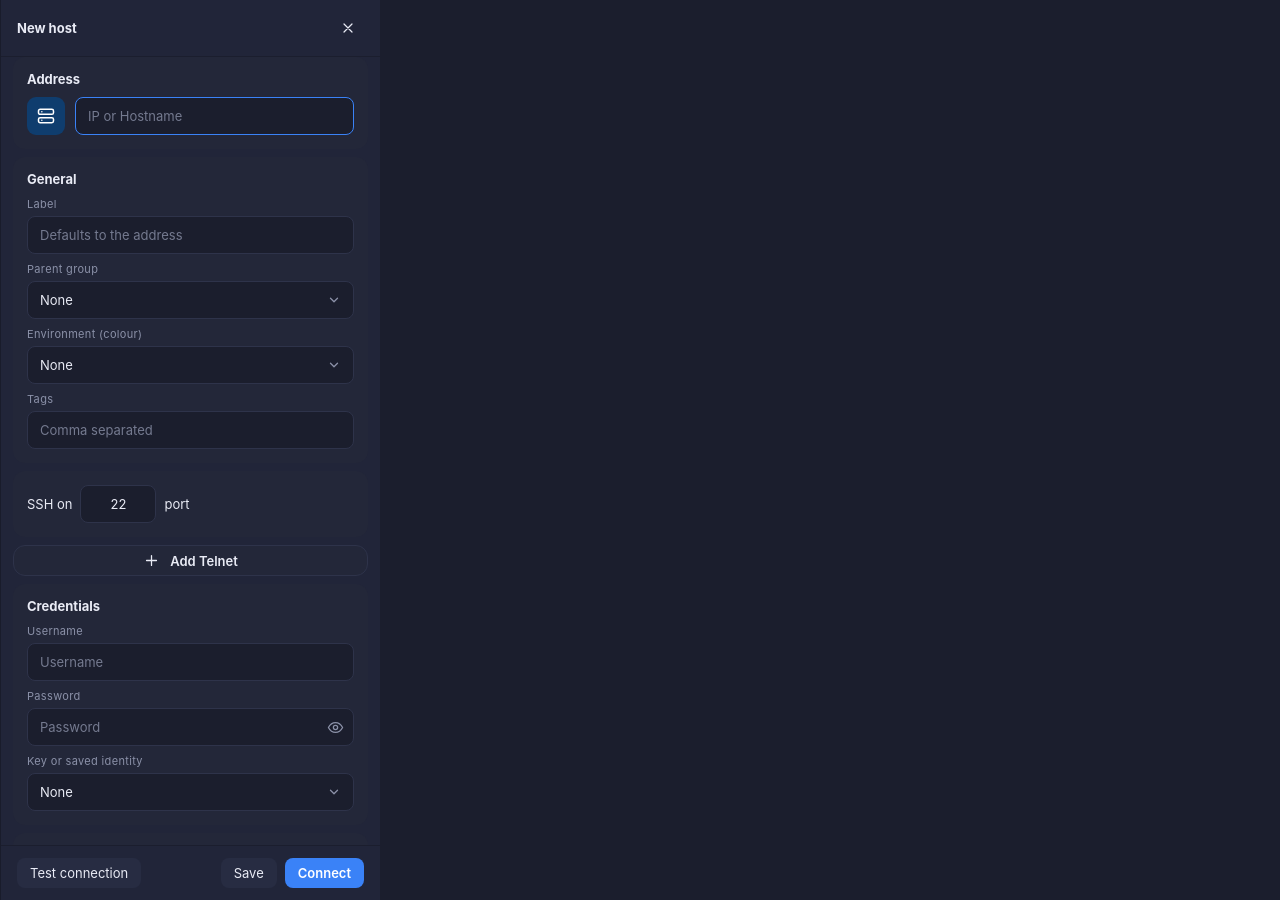
HostForm › requires a hostname
The width and height of the screenshot is (1280, 900).
Click the button "Save": (249, 873) x1=221 y1=858 x2=277 y2=888
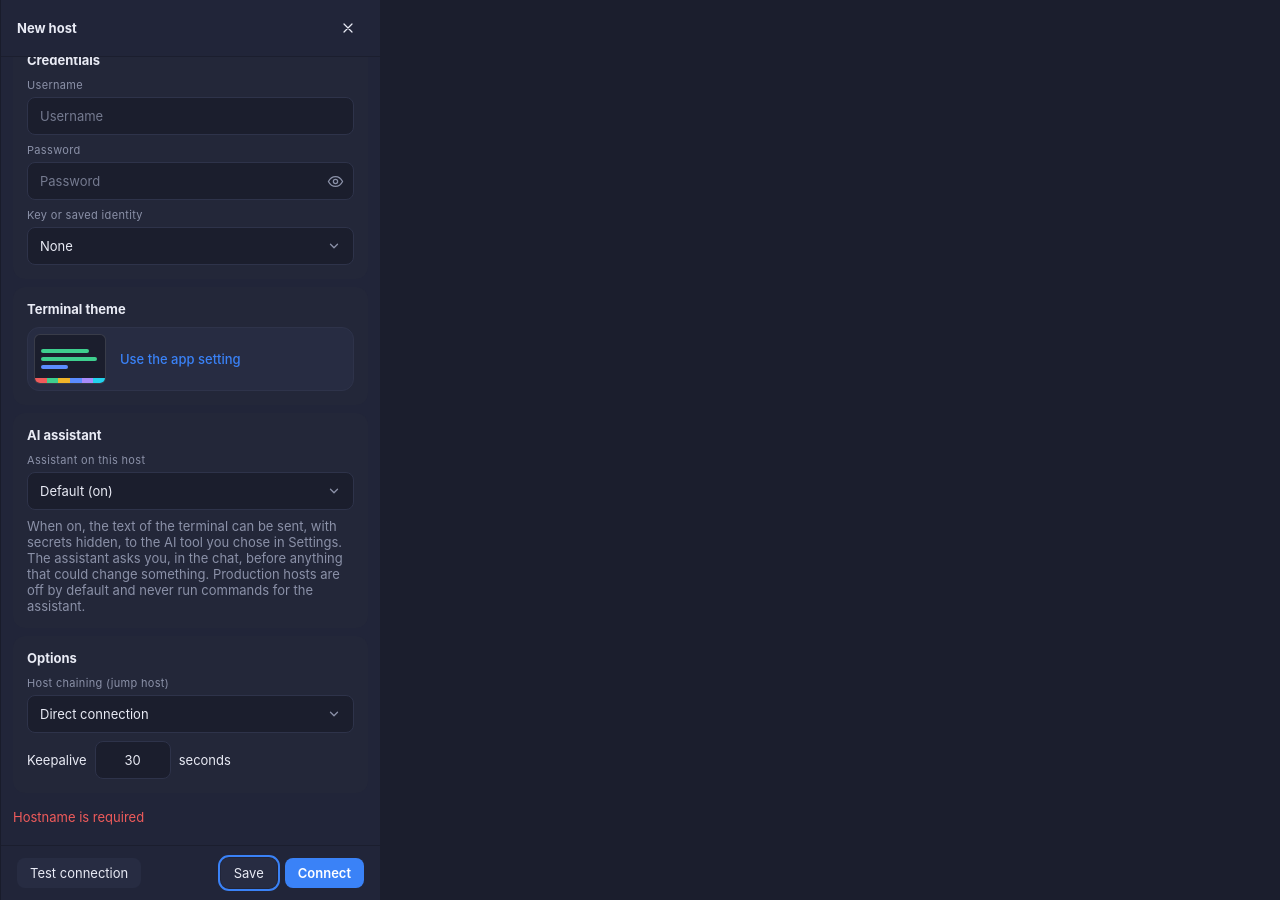
Result: the message reads "Hostname is required" at x1=13 y1=809 x2=144 y2=825
